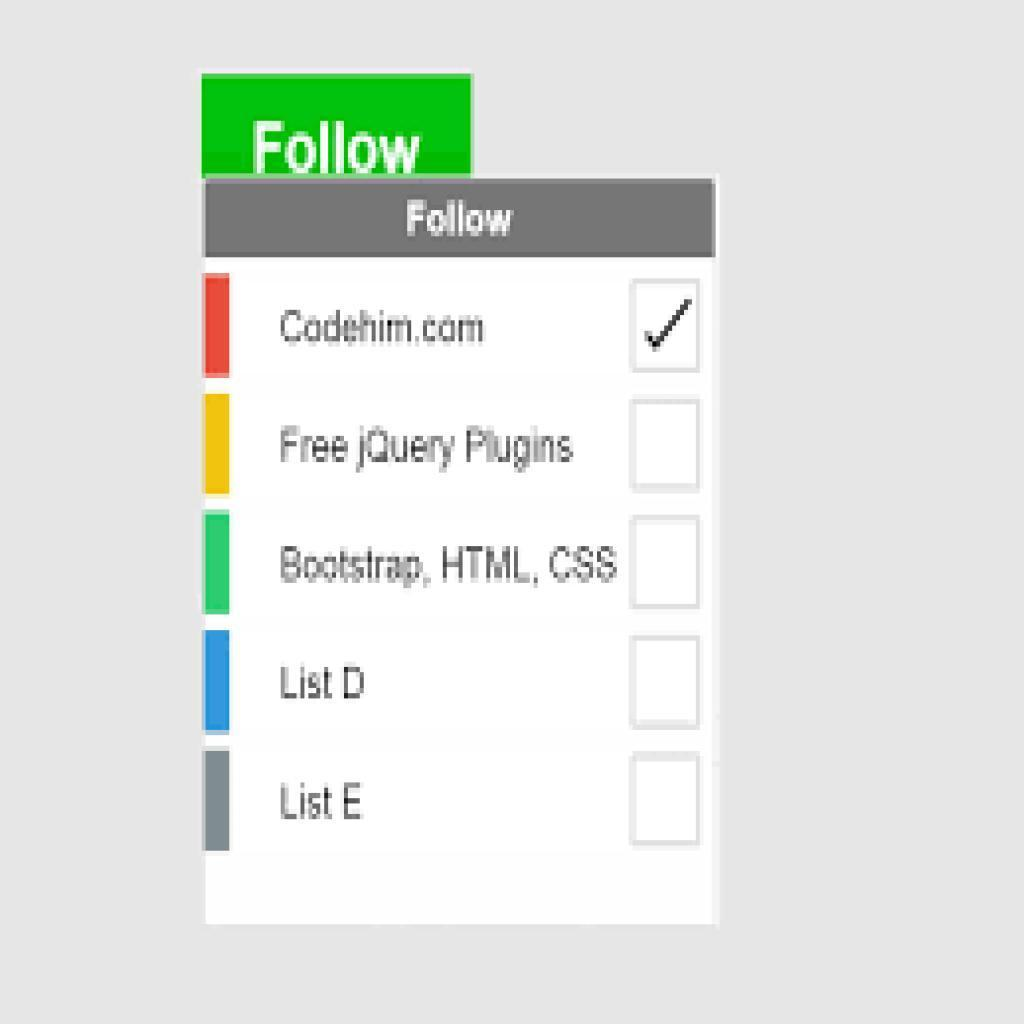checkbox: (629, 752, 703, 849), (629, 278, 704, 373), (628, 515, 702, 610), (631, 399, 702, 497), (630, 638, 703, 729)
label: (278, 540, 620, 589), (277, 420, 575, 475), (273, 304, 487, 352), (272, 658, 375, 711), (275, 777, 366, 830)
